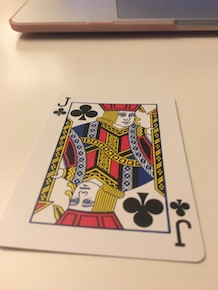JackOfClubs: (1, 90, 208, 267)
